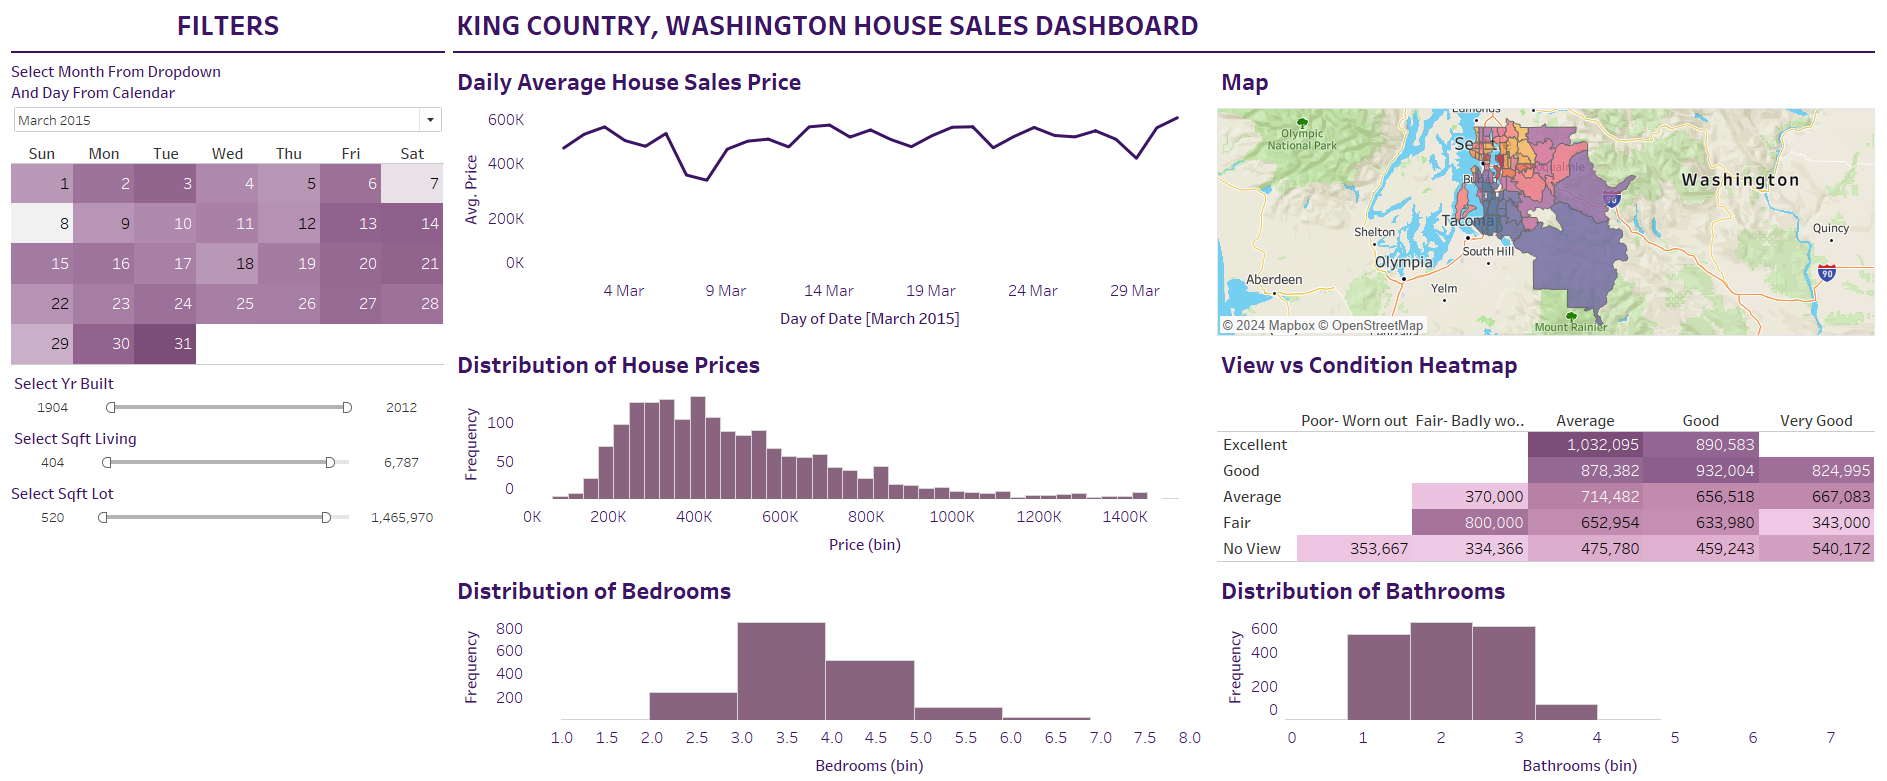

The page's visual inventory and layout, read from the dashboard file:
{"tool":"tableau","page":{"name":"KingCountryHouseSales","canvas":[1000,1000],"units":"permille","ordinal":0},"visuals":[{"type":"text","box":[4.8,10,233.8,56.2]},{"type":"text","box":[238.7,10,756.5,56.2]},{"type":"blank","box":[4.8,66.2,233.8,12.5]},{"type":"blank","box":[238.7,66.2,756.5,12.5]},{"type":"filter","title":"Calendar","param":"[federated.0whcgsg10tqmp21ev11zt18v1ed9].[my:date:ok]","box":[4.8,78.7,233.8,102.4]},{"type":"worksheet","title":"LineChart","mark":"Automatic","rows":["price"],"cols":["date"],"box":[238.7,78.7,404,353.3]},{"type":"worksheet","title":"Map","mark":"Automatic","box":[642.6,78.7,352.6,353.3]},{"type":"worksheet","title":"Calendar","mark":"Square","rows":["date"],"cols":["date"],"box":[4.8,181,233.8,287.1]},{"type":"worksheet","title":"HistHousePrice","mark":"Automatic","rows":["price"],"cols":["Price (bin)"],"box":[238.7,431.9,404,282.1]},{"type":"worksheet","title":"Heatmap","mark":"Square","rows":["view"],"cols":["condition"],"box":[642.6,431.9,352.6,282.1]},{"type":"filter","title":"Calendar","param":"[federated.0whcgsg10tqmp21ev11zt18v1ed9].[none:yr_built:qk]","box":[4.8,468.2,233.8,68.7]},{"type":"filter","title":"Calendar","param":"[federated.0whcgsg10tqmp21ev11zt18v1ed9].[none:sqft_living:qk]","box":[4.8,536.8,233.8,68.7]},{"type":"filter","title":"Calendar","param":"[federated.0whcgsg10tqmp21ev11zt18v1ed9].[none:sqft_lot:qk]","box":[4.8,605.5,233.8,68.7]},{"type":"worksheet","title":"HistBathrooms","mark":"Automatic","rows":["bathrooms"],"cols":["Bathrooms (bin)"],"box":[642.6,714,352.6,276]},{"type":"worksheet","title":"HistBedrooms","mark":"Automatic","rows":["bedrooms"],"cols":["Bedrooms (bin)"],"box":[238.7,714.1,404,275.9]}]}

Visuals, with their boxes on the dashboard's canvas, which has no fixed pixel size, in thousandths of its width and height (x1, y1, x2, y2). These are canvas units, not pixel positions in the 1887x781 screenshot, which may show the page scaled, cropped or inside an application window:
text: select_region(5, 10, 239, 66)
text: select_region(239, 10, 995, 66)
blank: select_region(5, 66, 239, 79)
blank: select_region(239, 66, 995, 79)
"Calendar" filter: select_region(5, 79, 239, 181)
"LineChart" worksheet: select_region(239, 79, 643, 432)
"Map" worksheet: select_region(643, 79, 995, 432)
"Calendar" worksheet (Square marks): select_region(5, 181, 239, 468)
"HistHousePrice" worksheet: select_region(239, 432, 643, 714)
"Heatmap" worksheet (Square marks): select_region(643, 432, 995, 714)
"Calendar" filter: select_region(5, 468, 239, 537)
"Calendar" filter: select_region(5, 537, 239, 606)
"Calendar" filter: select_region(5, 606, 239, 674)
"HistBathrooms" worksheet: select_region(643, 714, 995, 990)
"HistBedrooms" worksheet: select_region(239, 714, 643, 990)
